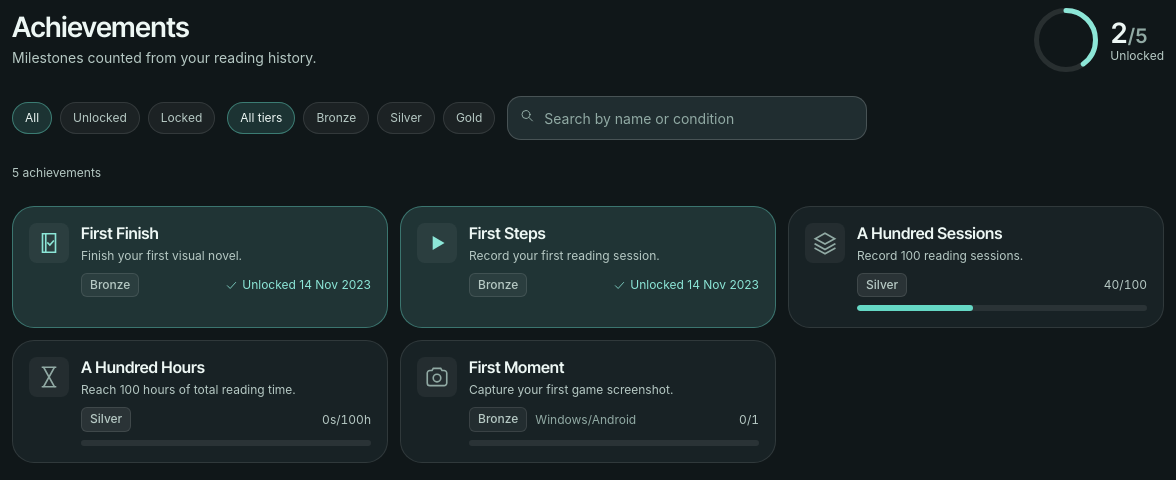
Test case: achievements screen › searches by name and condition
This screenshot has width=1176, height=480.
Check: the picture named "2 of 5 unlocked" is shown, box top-left (1034, 8), bottom-right (1098, 72)
Type "Finish" into the search field named "Search achievements" at (687,118), box top-left (507, 96), bottom-right (867, 140)
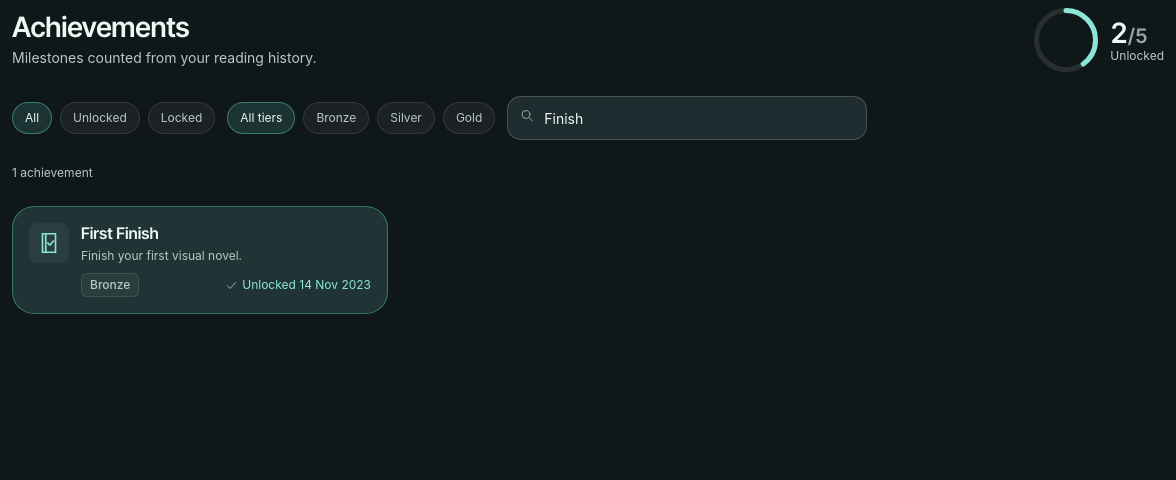
Check: the heading "First Finish" is shown, box top-left (81, 223), bottom-right (159, 243)
Check: the number of elements with class "ach-card" is 1, box top-left (12, 206), bottom-right (388, 314)
